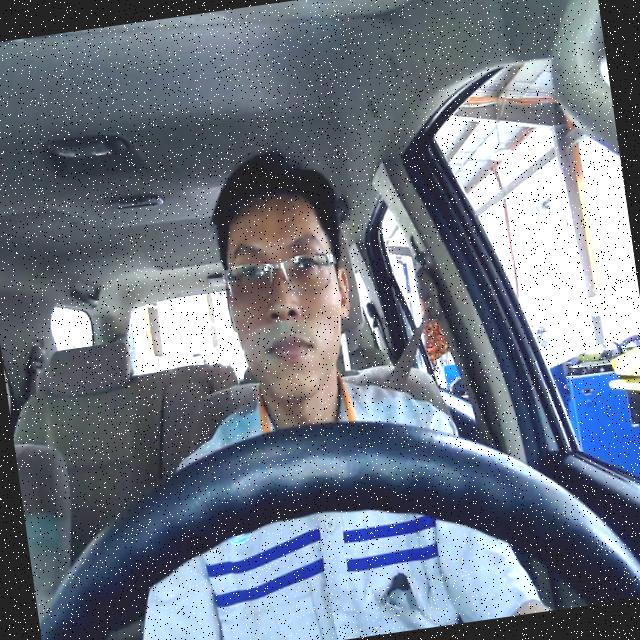focused: (210, 182, 364, 410)
